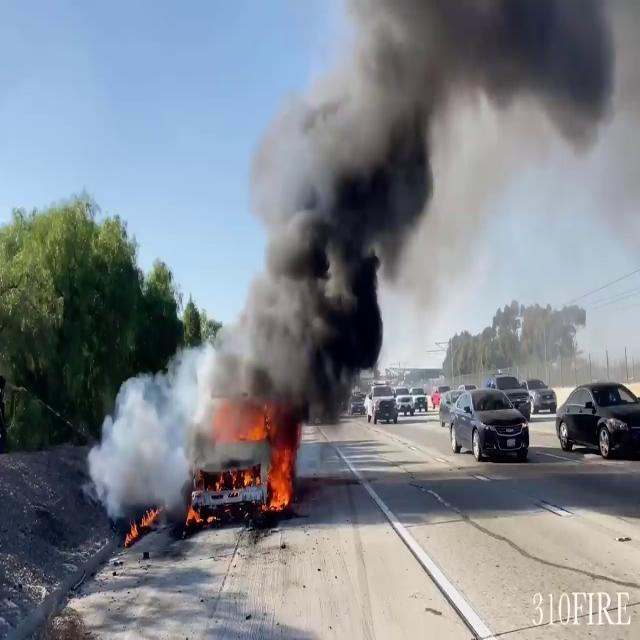Fire: (221, 406, 299, 514)
Smoke: (230, 1, 630, 408), (87, 332, 229, 534)
